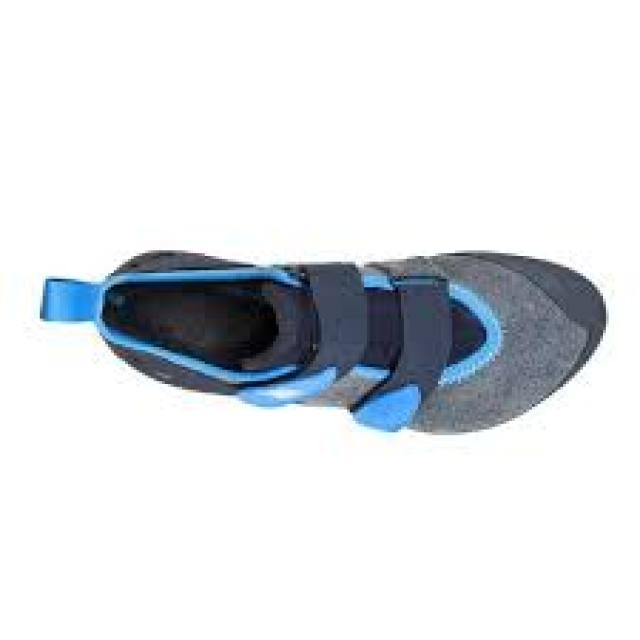climbing-shoes: (37, 249, 610, 438)
